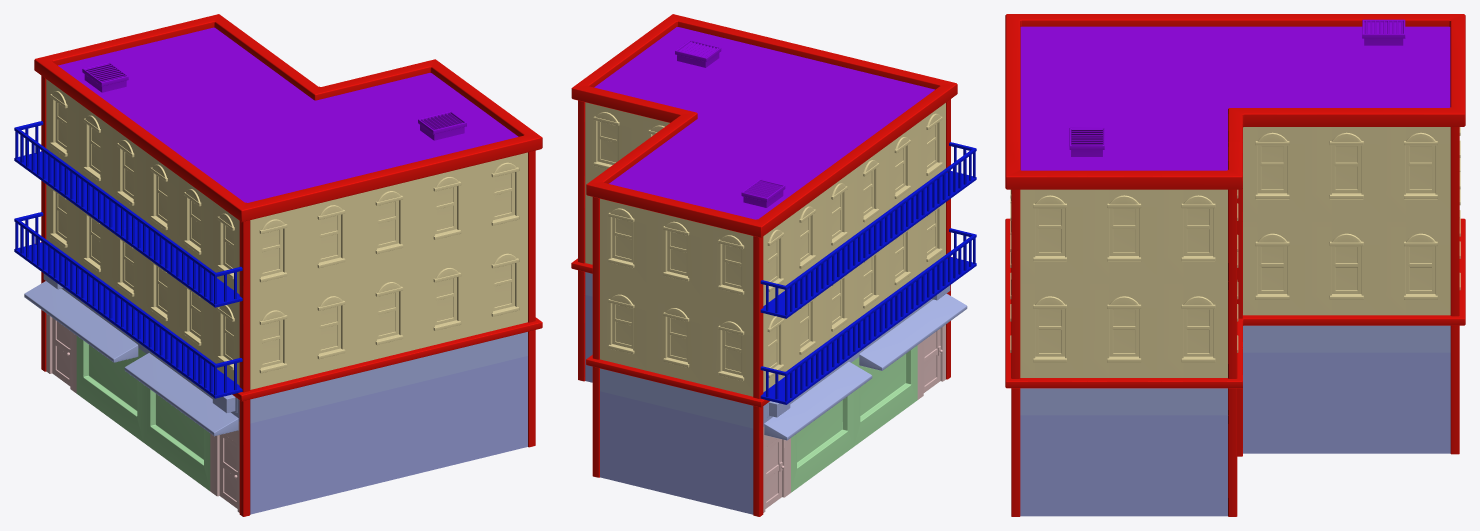
The model's file is Variante Edificio 1.fbx.
3 renders of one model, left to right at view 1: azimuth 30°, elevation 25°; view 2: azimuth 150°, elevation 25°; view 3: azimuth 270°, elevation 25°, orthographic. The views are drawn at different scales.
Parts seen in each view (by area): view 1: Tile pared Puerta.259, Tile pared Puerta.306, Tile pared Puerta.304, Tile pared Puerta.267, Tile pared Puerta.268, Tile pared Puerta.334, Tile pared Puerta.338, Tile pared Puerta.271, Tile pared Puerta.392, Tile pared Puerta.396, Tile pared Puerta.400, Tile pared Puerta.298 (+109 smaller); view 2: Tile pared Puerta.359, Tile pared Puerta.360, Tile pared Puerta.361, Tile pared Puerta.460, Tile pared Puerta.472, Tile pared Puerta.456, Tile pared Puerta.464, Tile pared Puerta.476, Tile pared Puerta.468, Tile pared Puerta.322, Cube.472, Cube.528 (+105 smaller); view 3: Tile pared Puerta.301, Tile pared Puerta.368, Tile pared Puerta.302, Tile pared Puerta.370, Tile pared Puerta.303, Tile pared Puerta.369, Tile pared Puerta.372, Tile pared Puerta.442, Tile pared Puerta.376, Tile pared Puerta.446, Tile pared Puerta.408, Tile pared Puerta.430 (+79 smaller).
Part boxes in pixels (box(x1,y1,x2,y2)): Tile pared Puerta.259: box(302, 397, 359, 501); Tile pared Puerta.306: box(418, 368, 475, 473); Tile pared Puerta.304: box(360, 383, 417, 487); Tile pared Puerta.267: box(476, 356, 527, 459); Tile pared Puerta.268: box(250, 411, 301, 514); Tile pared Puerta.334: box(360, 261, 417, 362); Tile pared Puerta.338: box(418, 247, 475, 348); Tile pared Puerta.271: box(302, 275, 359, 377); Tile pared Puerta.392: box(418, 165, 475, 261); Tile pared Puerta.396: box(360, 179, 417, 275); Tile pared Puerta.400: box(302, 193, 359, 289); Tile pared Puerta.298: box(250, 289, 301, 389); Tile pared Puerta.359: box(649, 403, 704, 502); Tile pared Puerta.360: box(600, 391, 649, 489); Tile pared Puerta.361: box(704, 416, 753, 514); Tile pared Puerta.460: box(649, 288, 704, 384); Tile pared Puerta.472: box(649, 210, 704, 301); Tile pared Puerta.456: box(600, 276, 649, 371); Tile pared Puerta.464: box(704, 302, 753, 396); Tile pared Puerta.476: box(600, 198, 649, 288); Tile pared Puerta.468: box(704, 224, 753, 313); Tile pared Puerta.322: box(817, 361, 854, 469); Cube.472: box(859, 293, 967, 370); Cube.528: box(764, 362, 872, 440); Tile pared Puerta.301: box(1087, 415, 1161, 516); Tile pared Puerta.368: box(1309, 352, 1383, 453); Tile pared Puerta.302: box(1020, 415, 1087, 516); Tile pared Puerta.370: box(1383, 352, 1450, 453); Tile pared Puerta.303: box(1161, 415, 1227, 516); Tile pared Puerta.369: box(1243, 352, 1309, 453); Tile pared Puerta.372: box(1309, 218, 1383, 315); Tile pared Puerta.442: box(1087, 281, 1161, 377); Tile pared Puerta.376: box(1309, 127, 1383, 218); Tile pared Puerta.446: box(1087, 189, 1161, 280); Tile pared Puerta.408: box(1383, 218, 1450, 315); Tile pared Puerta.430: box(1020, 281, 1087, 377).
Size of the model in its own units: 1241 by 1120 by 1036.
